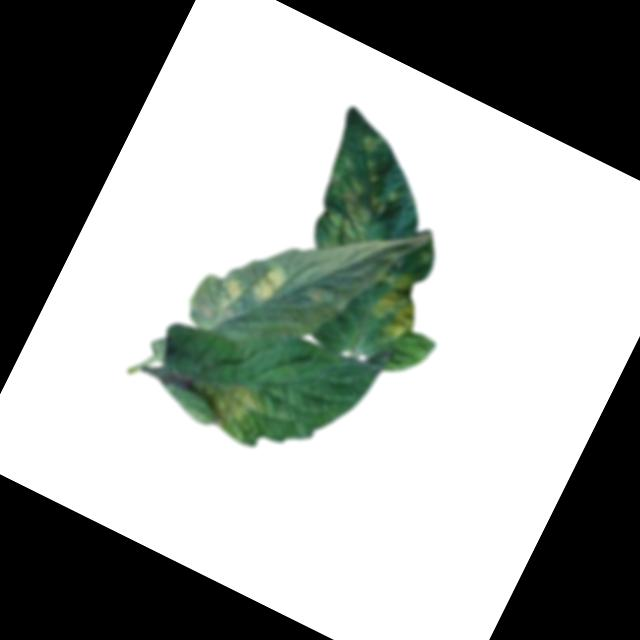Leaf_Mold: (359, 261, 435, 347), (187, 362, 268, 440), (314, 182, 384, 254), (243, 252, 294, 311), (208, 268, 248, 312)
